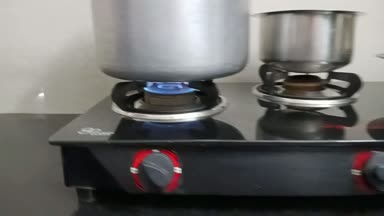flame_gas_on: (102, 70, 233, 194)
